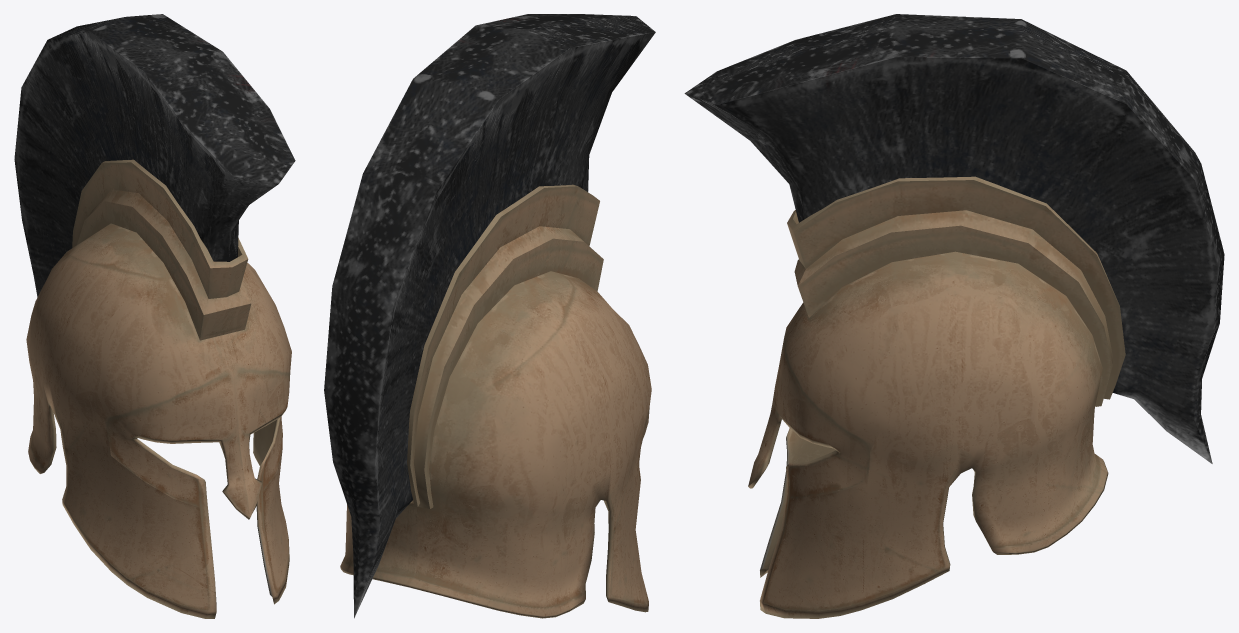
File: SpartanHelmet_LODG.fbx
3 renders of one model, left to right at view 1: azimuth 30°, elevation 25°; view 2: azimuth 150°, elevation 25°; view 3: azimuth 270°, elevation 25°, orthographic. The views are drawn at different scales.
Visible parts, largest first — view 1: SpartanHelmet_LOD0; view 2: SpartanHelmet_LOD0; view 3: SpartanHelmet_LOD0.
Boxes of the visible parts, x1,y1,x2,y2 form: SpartanHelmet_LOD0: (14,14,295,618); SpartanHelmet_LOD0: (324,14,655,618); SpartanHelmet_LOD0: (684,14,1224,618).
Bounding box in the file's own units: 19.15 × 44.79 × 38.84.
1 material, 1 textured.
